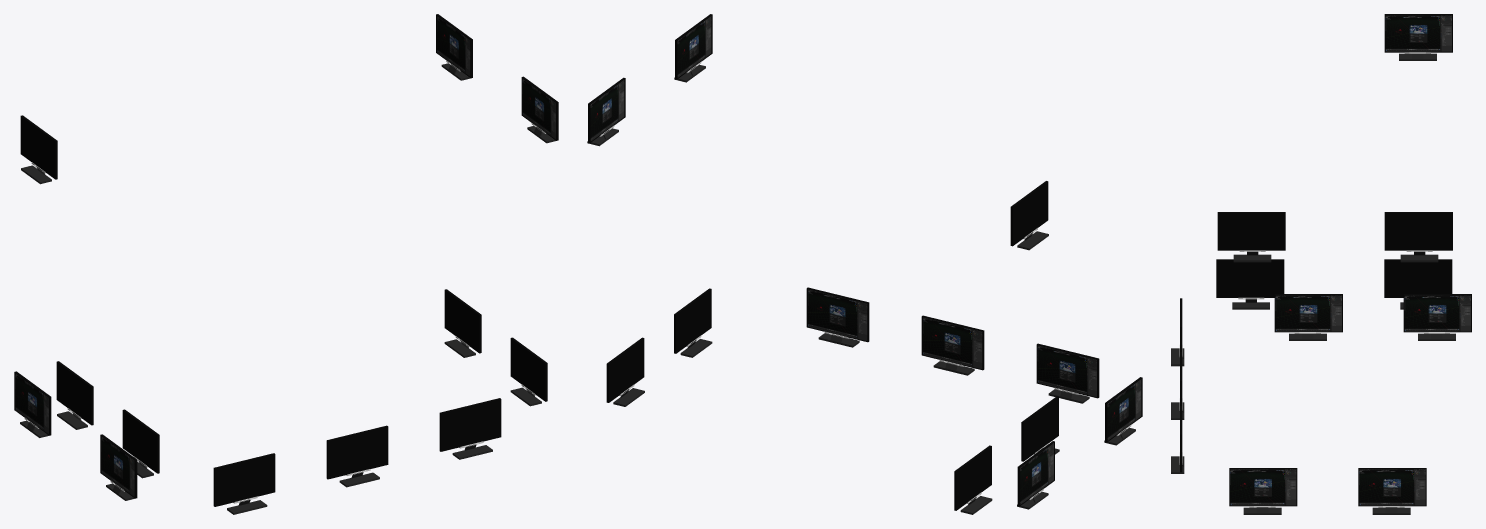
Rendered from monitors.glb.
The picture shows the model from 3 angles, left to right: view 1: azimuth 30°, elevation 25°; view 2: azimuth 150°, elevation 25°; view 3: azimuth 270°, elevation 25°; orthographic projection. The views are drawn at different scales.
Visible parts, largest first — view 1: Monitor_02, Monitor_03, Monitor_01, Monitor_08, Monitor_11, Monitor_05, Monitor_12, Monitor_09, Monitor_06, Monitor_07, Monitor_04, Monitor_10; view 2: Monitor_03, Monitor_02, Monitor_01, Monitor_08, Monitor_12, Monitor_11, Monitor_05, Monitor_10, Monitor_06, Monitor_07, Monitor_09, Monitor_04; view 3: Monitor_09, Monitor_10, Monitor_12, Monitor_11, Monitor_08, Monitor_04, Monitor_05, Monitor_06, Monitor_07, Monitor_03, Monitor_01, Monitor_02.
Part boxes in pixels (x1,y1,x2,y2): Monitor_02: [326, 425, 388, 487]; Monitor_03: [439, 398, 501, 459]; Monitor_01: [213, 453, 275, 514]; Monitor_08: [20, 115, 57, 184]; Monitor_11: [510, 337, 547, 406]; Monitor_05: [56, 361, 93, 429]; Monitor_12: [444, 289, 481, 357]; Monitor_09: [521, 76, 558, 143]; Monitor_06: [100, 434, 137, 500]; Monitor_07: [14, 371, 51, 437]; Monitor_04: [122, 409, 159, 478]; Monitor_10: [436, 14, 472, 80]; Monitor_03: [806, 287, 869, 347]; Monitor_02: [921, 315, 984, 375]; Monitor_01: [1036, 343, 1099, 403]; Monitor_08: [1010, 181, 1048, 250]; Monitor_12: [606, 337, 644, 406]; Monitor_11: [674, 288, 712, 357]; Monitor_05: [954, 445, 992, 514]; Monitor_10: [587, 77, 625, 146]; Monitor_06: [1104, 377, 1142, 445]; Monitor_07: [1017, 441, 1054, 509]; Monitor_09: [674, 14, 712, 82]; Monitor_04: [1021, 396, 1059, 461]; Monitor_09: [1217, 212, 1285, 262]; Monitor_10: [1384, 212, 1452, 262]; Monitor_12: [1358, 468, 1426, 514]; Monitor_11: [1229, 468, 1297, 514]; Monitor_08: [1384, 14, 1452, 60]; Monitor_04: [1274, 294, 1342, 340]; Monitor_05: [1403, 294, 1471, 340]; Monitor_06: [1216, 259, 1284, 309]; Monitor_07: [1384, 259, 1452, 309]; Monitor_03: [1171, 406, 1184, 473]; Monitor_01: [1171, 298, 1184, 366]; Monitor_02: [1171, 352, 1184, 419].
Bounding box in the file's own units: 4.45 × 3.05 × 2.74.
4 materials, 1 textured.
